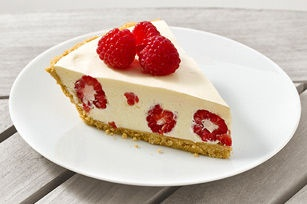background: (22, 6, 111, 50)
